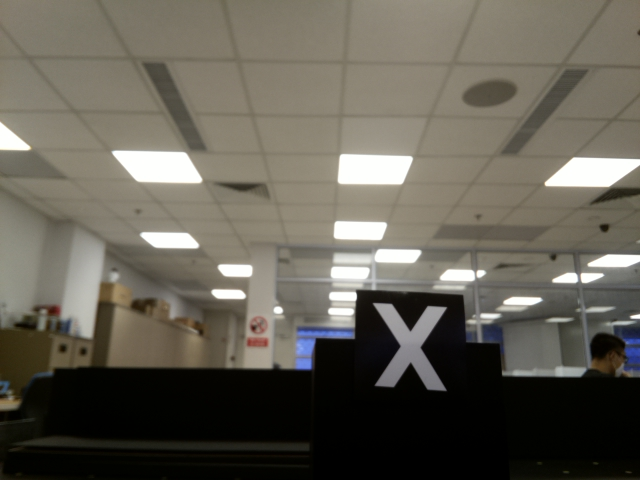x: (370, 297, 458, 399)
